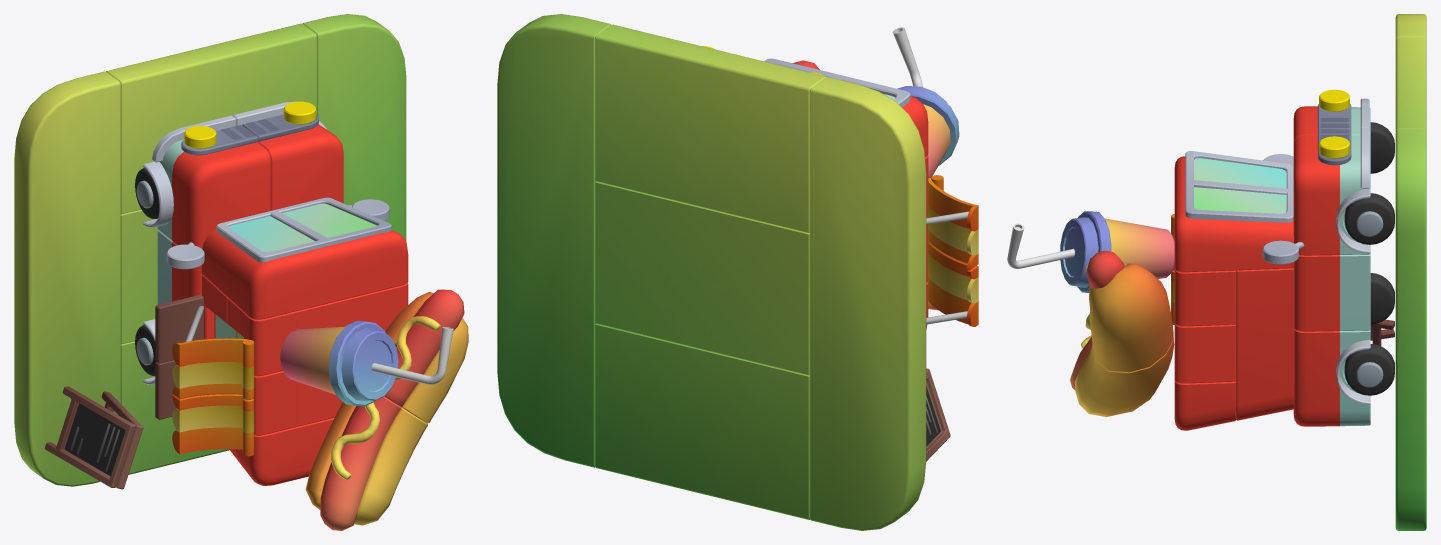
Rendered from Level_164.fbx.
3 views of the same model, side by side, from view 1: azimuth 30°, elevation 25°; view 2: azimuth 150°, elevation 25°; view 3: azimuth 270°, elevation 25° (orthographic). The views are drawn at different scales.
Parts seen in each view (by area): view 1: Cube_L3 1.001, Cube_L2 8.003, Cube_L3.001, Cube_L3 2.001, Cube_L1 3.005, Cube_L2 4.003, Cube_L1 2.005, Cube_L3 4.001, Cube_L2 5.003, Cube_L2 13.002, Cube_L1.005, Cube_L2 25 (+18 smaller); view 2: Cube_L3 1.001, Cube_L3 2.001, Cube_L3.001, Cube_L3 5.001, Cube_L3 3.001, Cube_L2 25, Cube_L2 21.002, Cube_L1.005, Cube_L2 8.003, Cube_L3 4.001, Cube_L1 1.005; view 3: Cube_L2 8.003, Cube_L3 2.001, Cube_L2 15.002, Cube_L1 2.005, Cube_L2 5.003, Cube_L2 23, Cube_L2 12.003, Cube_L1 3.005, Cube_L2 18.002, Cube_L1.005, Cube_L2 13.002, Cube_L3.001 (+14 smaller).
Part boxes in pixels (bbox=[...]): Cube_L3 1.001: bbox=[14, 71, 120, 486]; Cube_L2 8.003: bbox=[201, 197, 408, 319]; Cube_L3.001: bbox=[106, 23, 316, 214]; Cube_L3 2.001: bbox=[302, 14, 406, 241]; Cube_L1 3.005: bbox=[305, 396, 427, 530]; Cube_L2 4.003: bbox=[143, 115, 270, 248]; Cube_L1 2.005: bbox=[384, 289, 468, 423]; Cube_L3 4.001: bbox=[45, 386, 143, 489]; Cube_L2 5.003: bbox=[233, 101, 343, 210]; Cube_L2 13.002: bbox=[227, 282, 408, 376]; Cube_L1.005: bbox=[328, 320, 453, 406]; Cube_L2 25: bbox=[172, 306, 254, 399]; Cube_L3 1.001: bbox=[810, 77, 926, 530]; Cube_L3 2.001: bbox=[497, 14, 610, 467]; Cube_L3.001: bbox=[595, 24, 825, 232]; Cube_L3 5.001: bbox=[595, 323, 810, 519]; Cube_L3 3.001: bbox=[595, 181, 809, 375]; Cube_L2 25: bbox=[926, 175, 978, 270]; Cube_L2 21.002: bbox=[926, 240, 978, 326]; Cube_L1.005: bbox=[892, 27, 959, 165]; Cube_L2 8.003: bbox=[764, 58, 928, 156]; Cube_L3 4.001: bbox=[926, 368, 950, 461]; Cube_L1 1.005: bbox=[923, 104, 950, 178]; Cube_L2 8.003: bbox=[1174, 151, 1294, 272]; Cube_L3 2.001: bbox=[1395, 129, 1426, 530]; Cube_L2 15.002: bbox=[1236, 268, 1294, 420]; Cube_L1 2.005: bbox=[1086, 250, 1173, 372]; Cube_L2 5.003: bbox=[1293, 127, 1370, 255]; Cube_L2 23: bbox=[1293, 329, 1370, 426]; Cube_L2 12.003: bbox=[1294, 254, 1370, 331]; Cube_L1 3.005: bbox=[1070, 314, 1174, 416]; Cube_L2 18.002: bbox=[1174, 322, 1236, 383]; Cube_L1.005: bbox=[1007, 211, 1111, 292]; Cube_L2 13.002: bbox=[1174, 268, 1236, 326]; Cube_L3.001: bbox=[1395, 37, 1426, 131].
Size of the model in its own units: 13.48 by 13.48 by 13.48.
